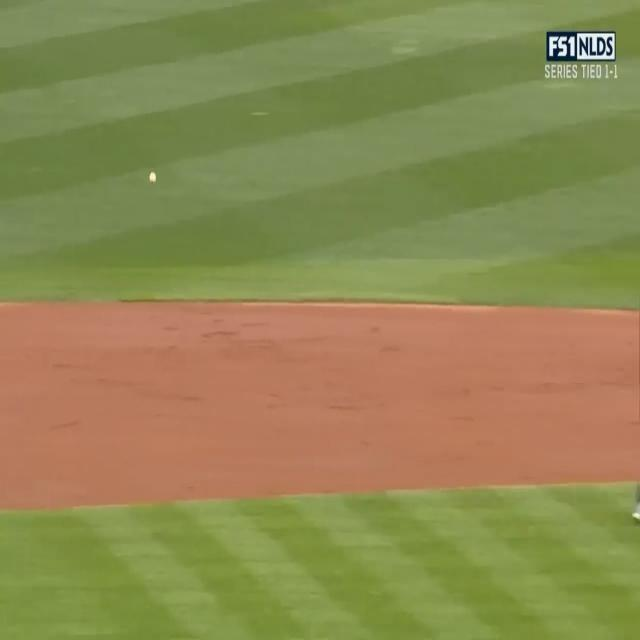baseball: (148, 170, 158, 185)
